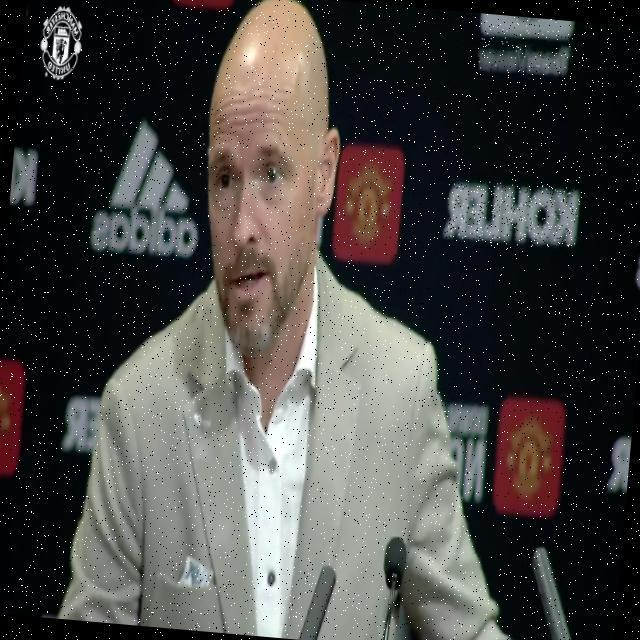Adidas: (87, 111, 208, 261)
Kohler: (444, 177, 581, 250)
TeamViewer: (475, 13, 575, 77)
